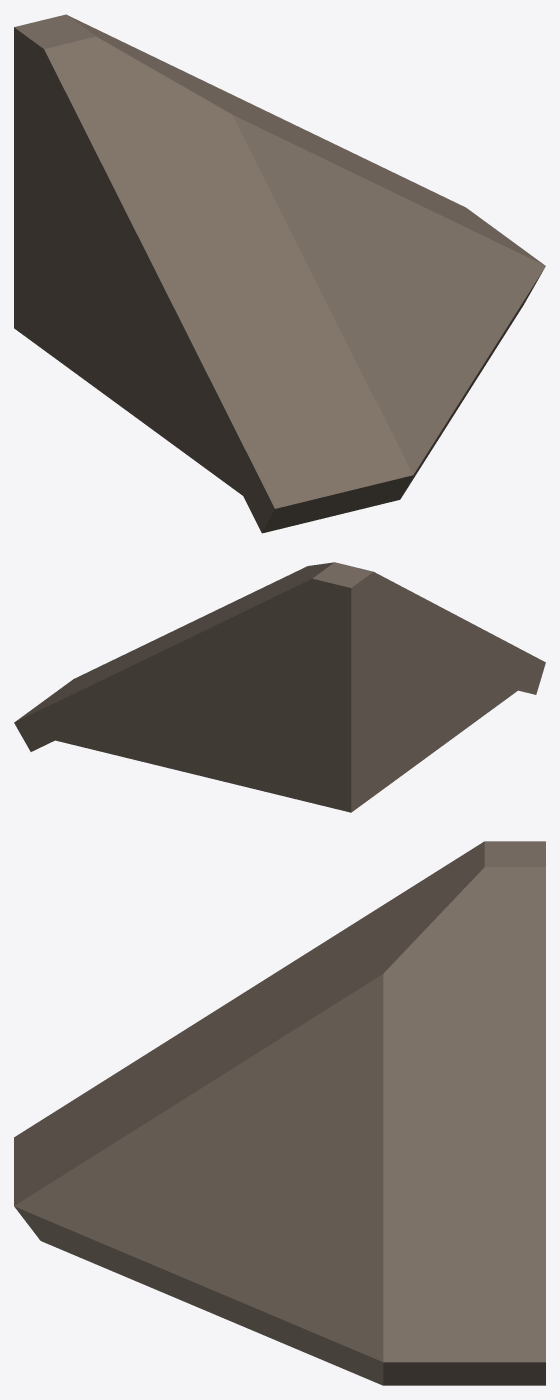
The model's file is roof-slanted-corner-a.obj.
The picture shows the model from 3 angles, top to bottom: view 1: azimuth 30°, elevation 25°; view 2: azimuth 150°, elevation 25°; view 3: azimuth 270°, elevation 25°; orthographic projection. The views are drawn at different scales.
Size of the model in its own units: 1.14 by 0.782 by 1.14.
